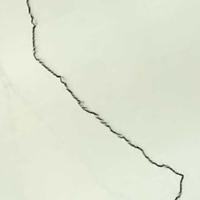crack: (24, 0, 184, 199)
